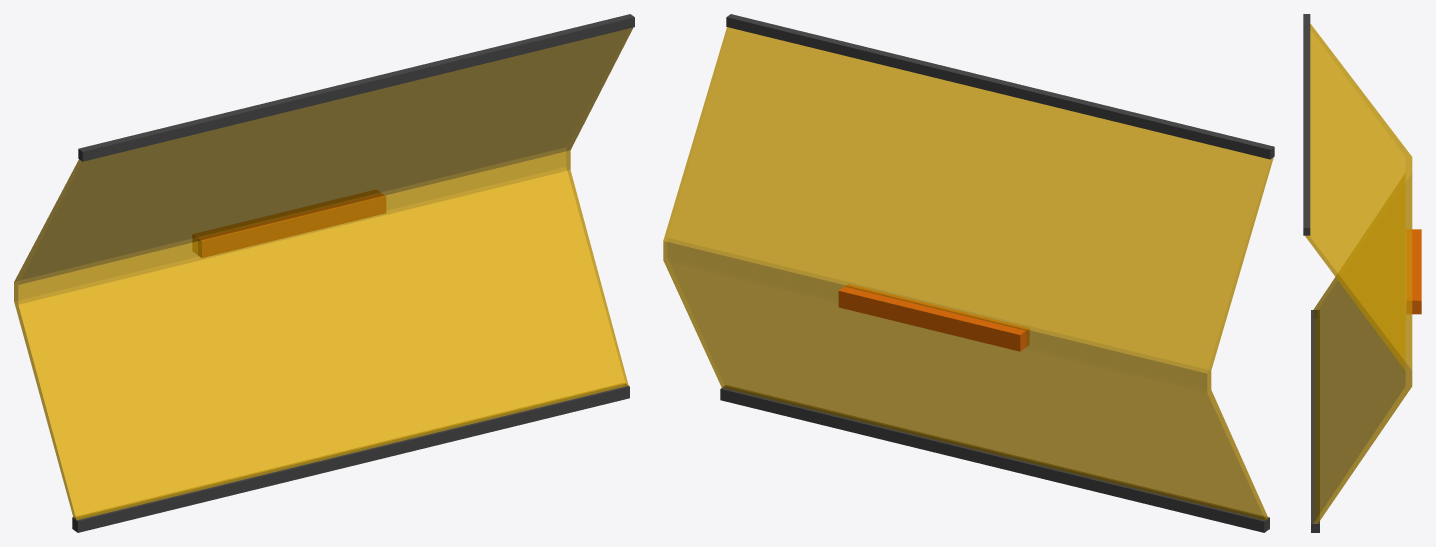
The model's file is Shield_Square2.fbx.
3 renders of one model, left to right at view 1: azimuth 30°, elevation 25°; view 2: azimuth 150°, elevation 25°; view 3: azimuth 270°, elevation 25°, orthographic. The views are drawn at different scales.
Visible parts, largest first — view 1: polySurface4; view 2: polySurface4; view 3: polySurface4.
Part boxes in pixels (x1,y1,x2,y2): polySurface4: (14,14,634,532); polySurface4: (663,14,1274,532); polySurface4: (1303,14,1421,532).
Bounding box in the file's own units: 3.18 × 2.12 × 0.7425.
